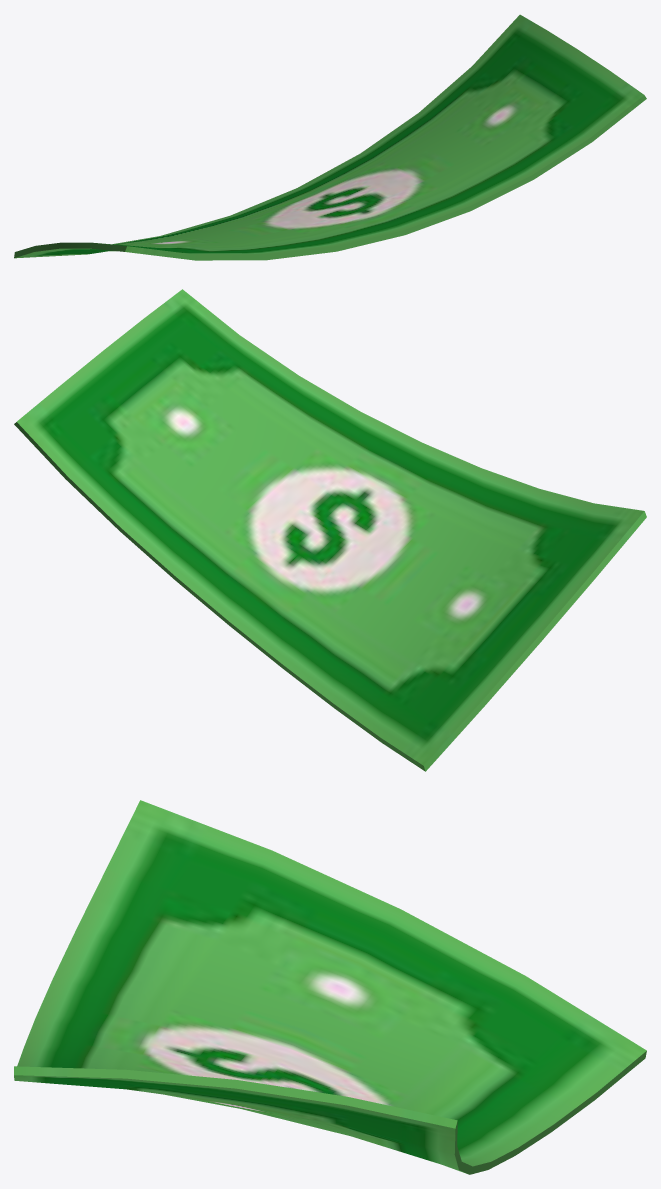
File: Money-paper.fbx
The picture shows the model from 3 angles, top to bottom: view 1: azimuth 30°, elevation 25°; view 2: azimuth 150°, elevation 25°; view 3: azimuth 270°, elevation 25°; orthographic projection. The views are drawn at different scales.
Visible parts, largest first — view 1: Money_paper; view 2: Money_paper; view 3: Money_paper.
Boxes of the visible parts, left/top/right/bottom form: Money_paper: left=14, top=14, right=646, bottom=260; Money_paper: left=14, top=289, right=646, bottom=771; Money_paper: left=14, top=800, right=646, bottom=1174.
Size of the model in its own units: 204 by 79.96 by 142.
Materials: 1 (1 with a texture image).
